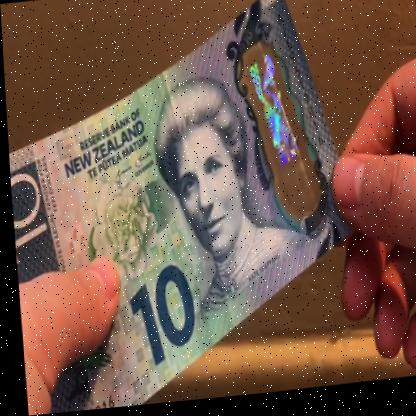10B: (244, 52, 303, 176)
